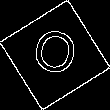O_S: (28, 25, 82, 85)
